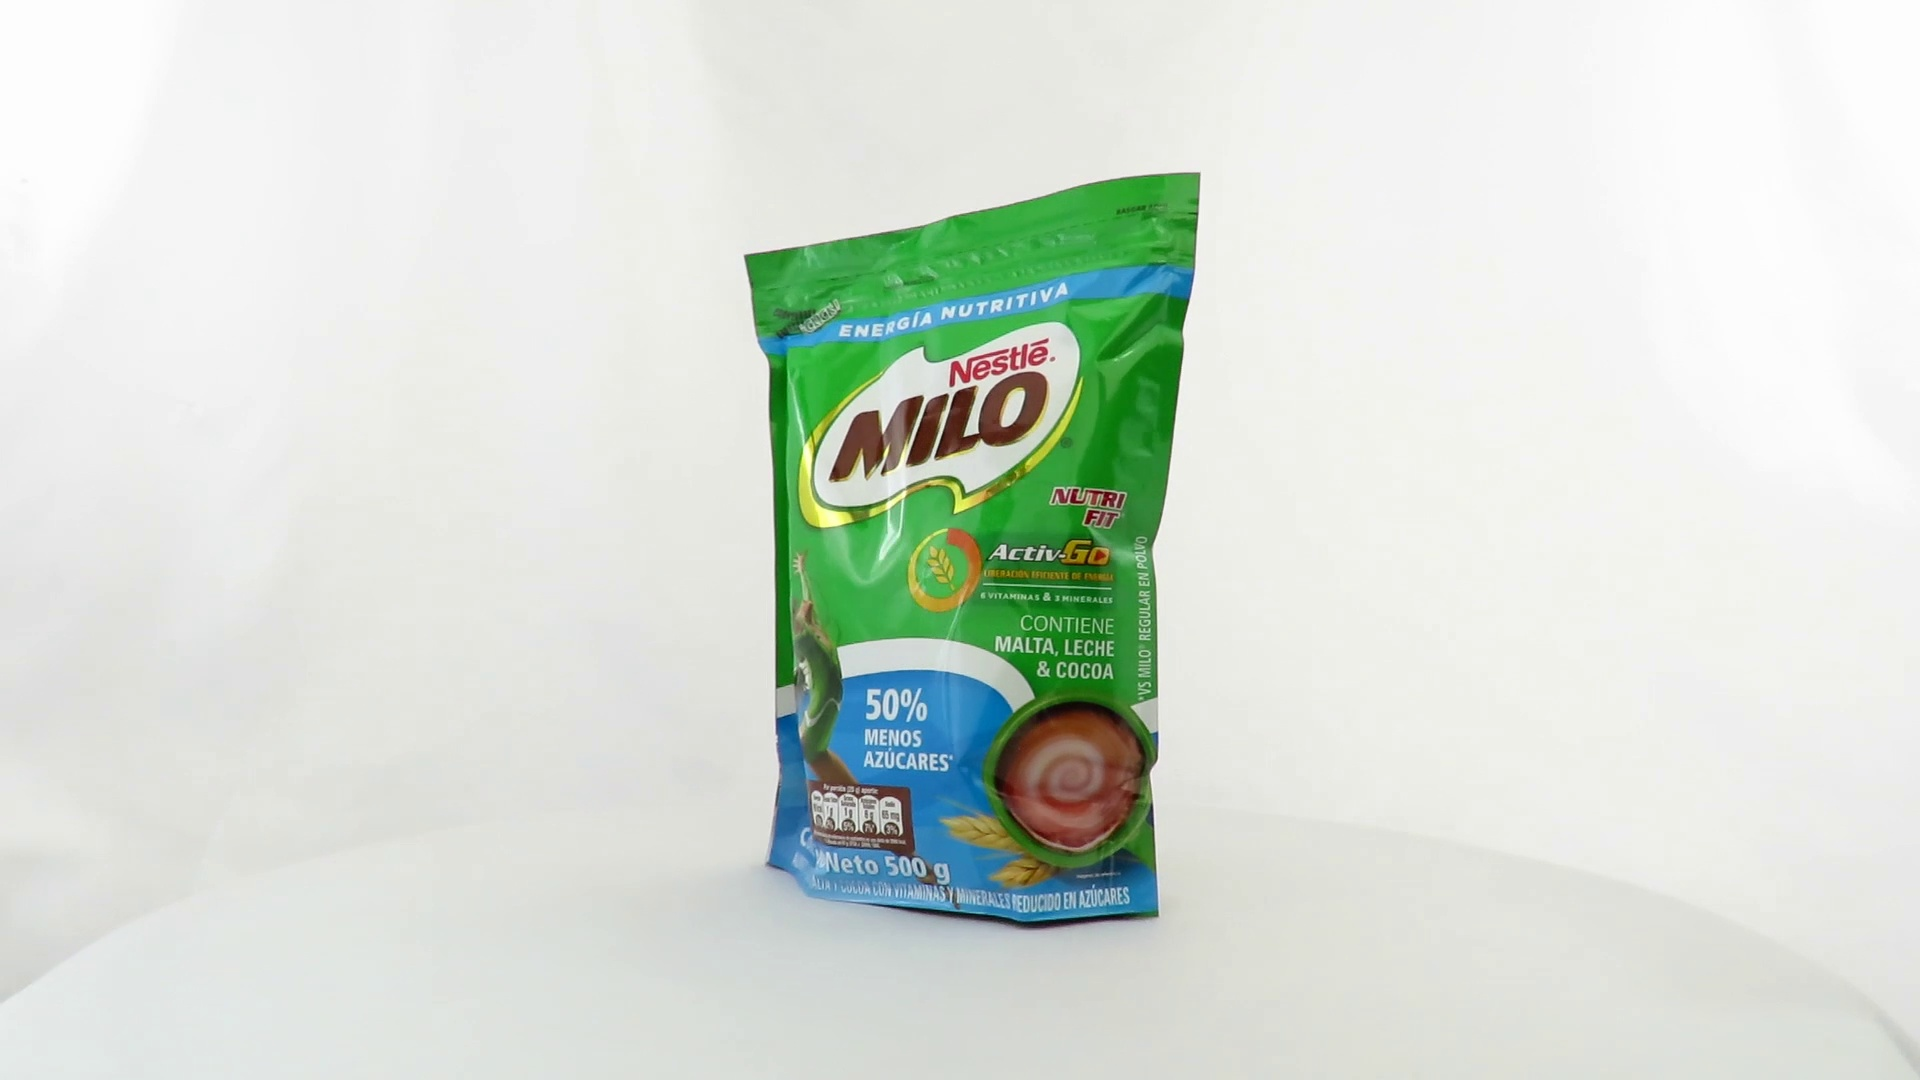COL0170205DYP50000: (738, 167, 1207, 936)
